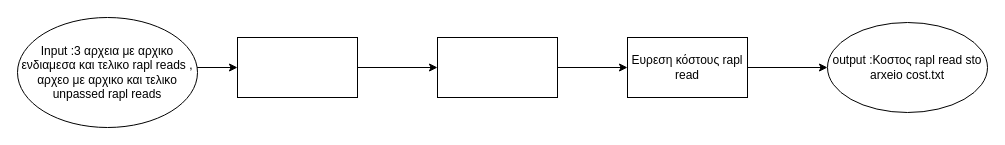
Image size: 1005x145. Some labels were removed from this diagram. The centre of each missing label's shape, as x and y in pixels:
cost_folder: (x=297, y=67)
run_cost.sh: (x=497, y=67)
